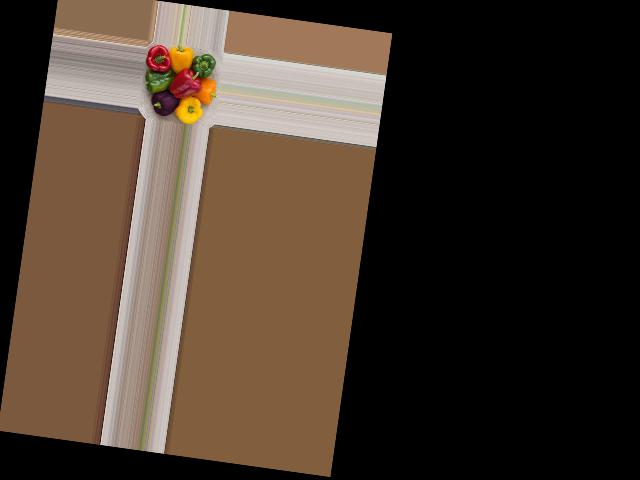bell_pepper: (142, 82, 181, 116)
